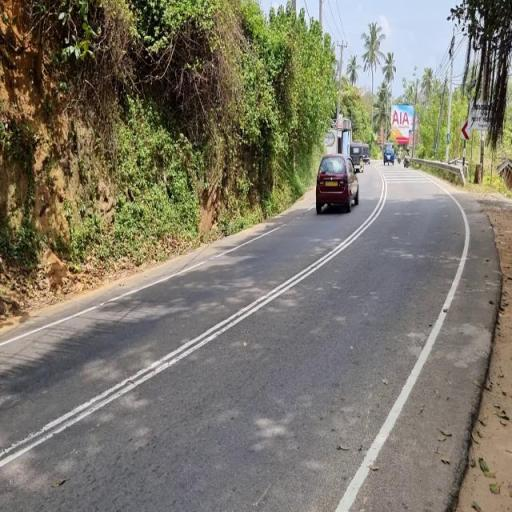double_white_line: (0, 172, 382, 471)
